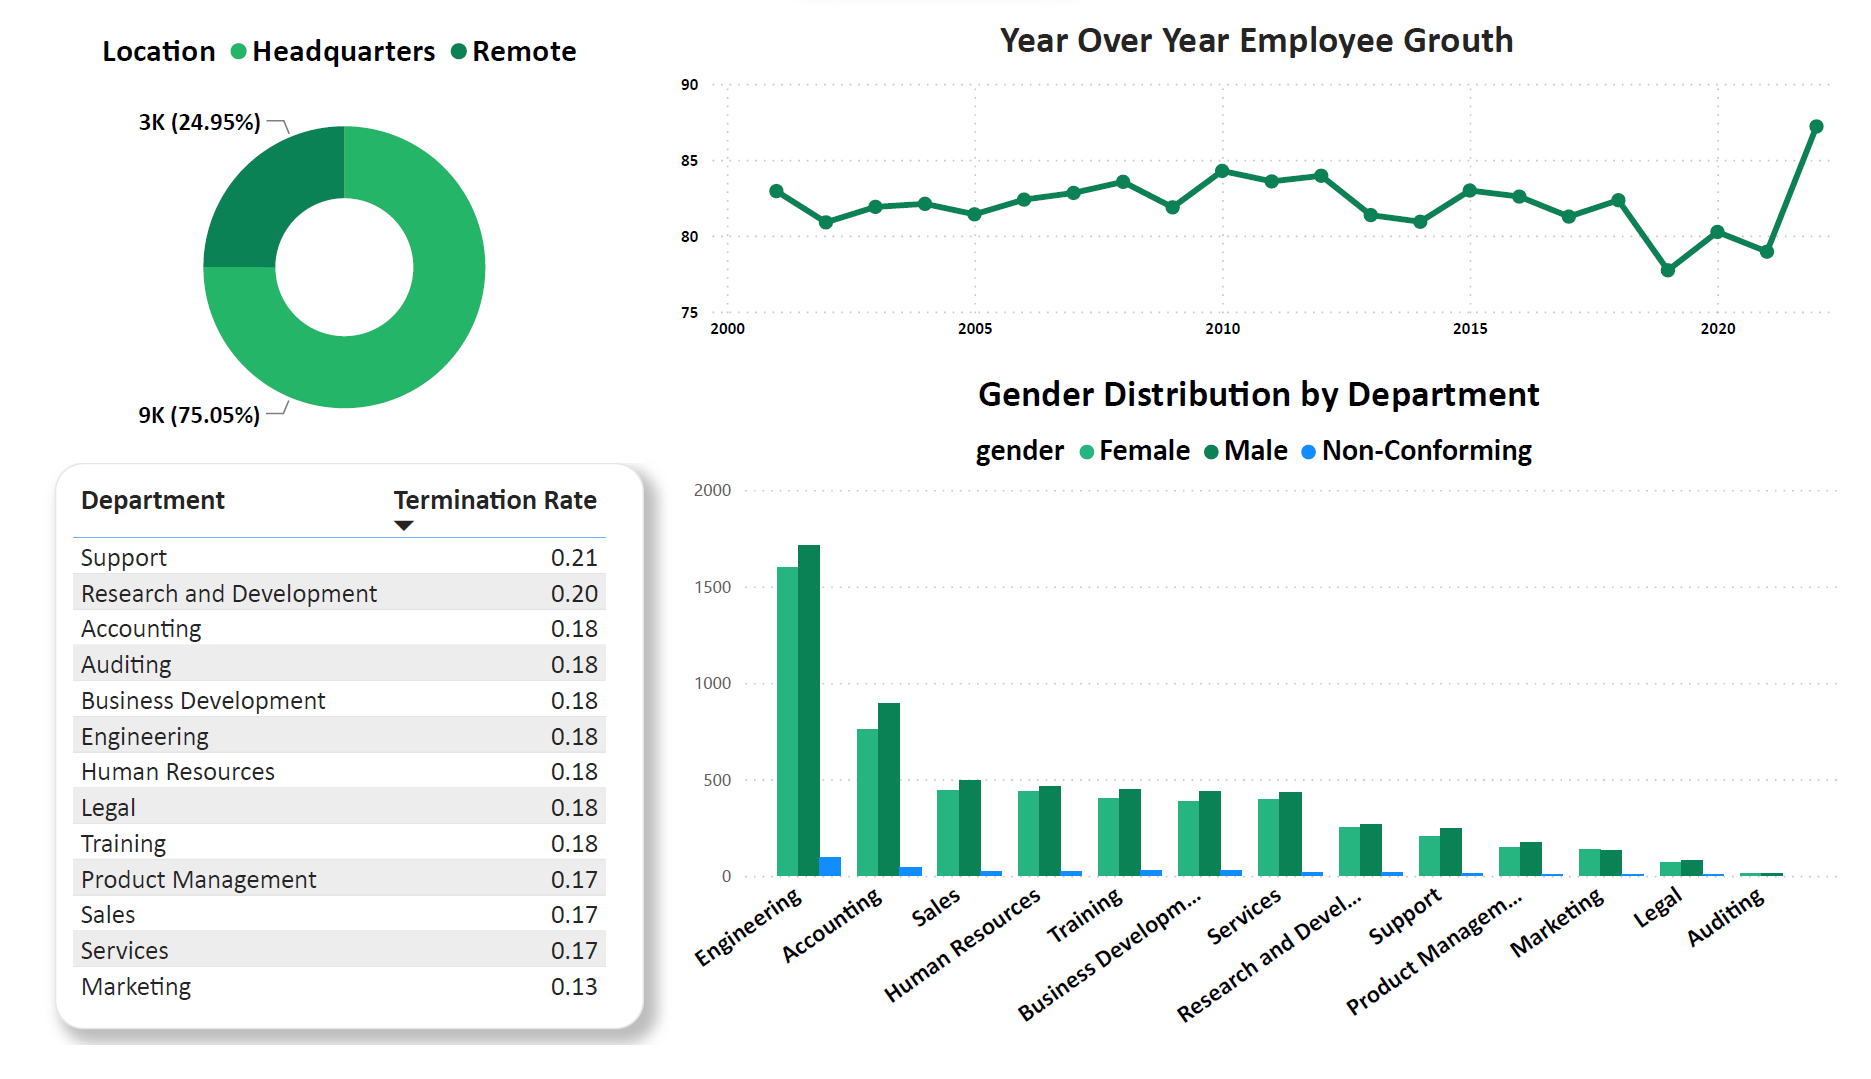

This screenshot's page, from the dashboard's own definition file:
{"tool":"powerbi","page":{"name":"Page 2","canvas":[1280,720],"ordinal":1},"visuals":[{"type":"tableEx","fields":{"Values":["turnover_rates.department","Sum(turnover_rates.termination_rate)"]},"box":[29.3,312.9,412,396.1],"z":0},{"type":"clusteredColumnChart","title":"Gender Distribution by Department","fields":{"Category":["gender_by_department.department"],"Y":["Sum(gender_by_department.count)"],"Series":["gender_by_department.gender"]},"box":[462.2,247.8,818.3,471.7],"z":1000},{"type":"lineChart","title":"Year Over Year Employee Grouth","fields":{"Category":["employee_count_over_time.year"],"Y":["Sum(employee_count_over_time.net_change_percent)"]},"box":[461,1.2,818.3,234.7],"z":2000},{"type":"donutChart","title":"Headquartes vs Remote","fields":{"Y":["Sum(working_location.count)"],"Category":["working_location.location"]},"box":[22,0,419.3,312.9],"z":3000}]}

Visuals, with their boxes in screenshot pixels (x1, y1, x2, y2), scaled from the page's 1280x720 canvas onto the 1871x1079 screenshot:
tableEx - turnover_rates.department x Sum(turnover_rates.termination_rate): x1=43 y1=469 x2=645 y2=1063
"Gender Distribution by Department" clusteredColumnChart: x1=676 y1=371 x2=1870 y2=1078
"Year Over Year Employee Grouth" lineChart: x1=674 y1=2 x2=1870 y2=354
"Headquartes vs Remote" donutChart: x1=32 y1=0 x2=645 y2=469
